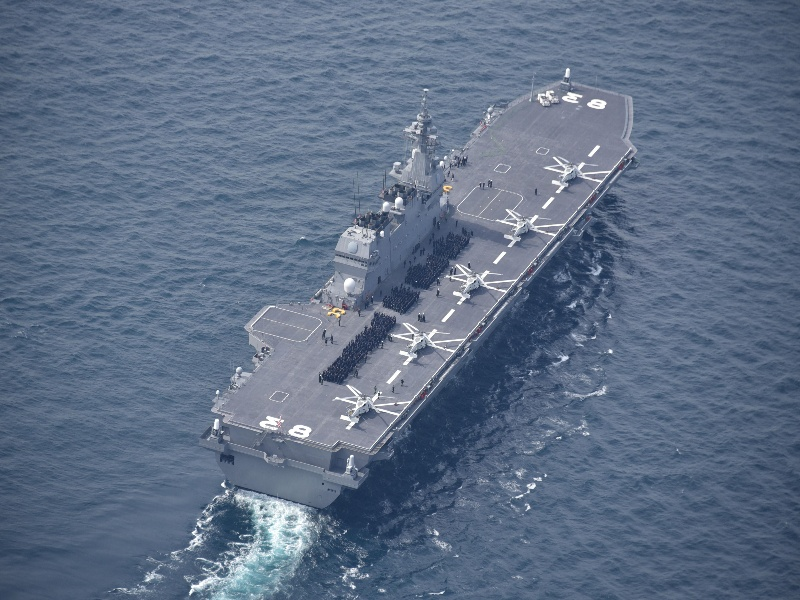carrier: (222, 60, 633, 516)
